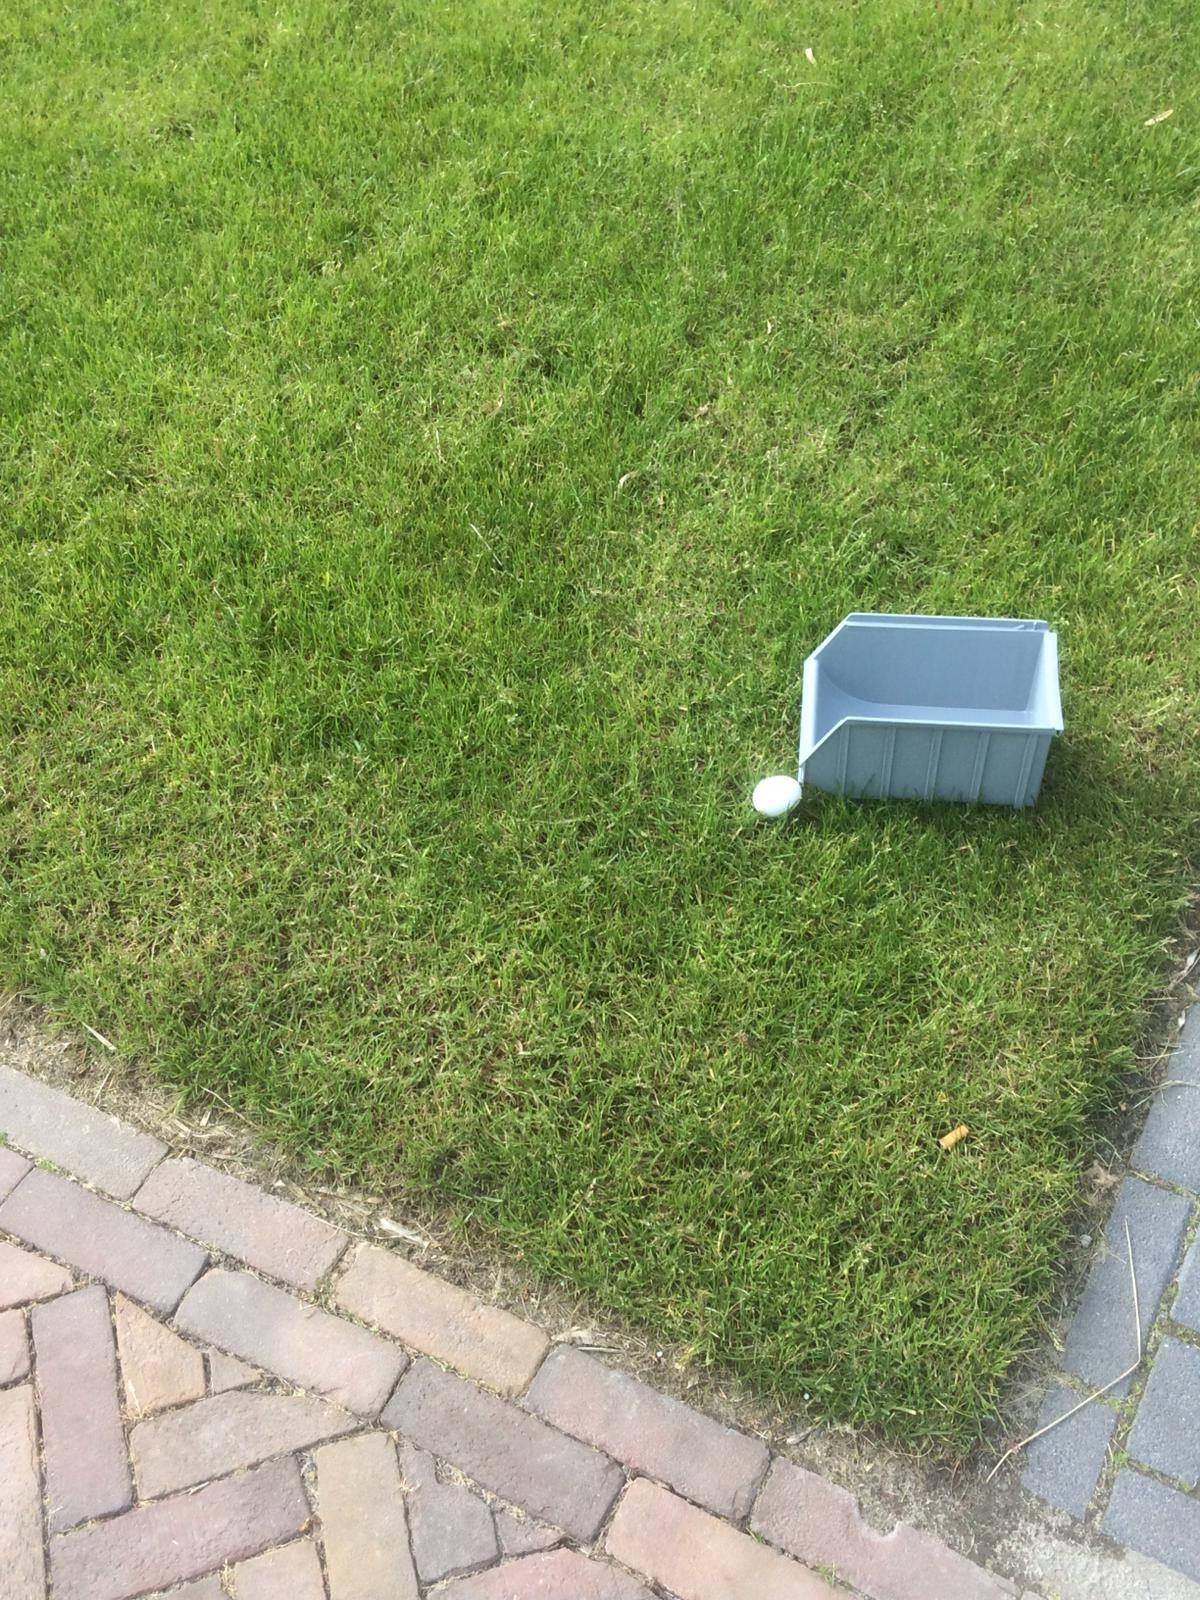egg: (744, 769, 811, 818)
tray_right: (805, 702, 1071, 819)
